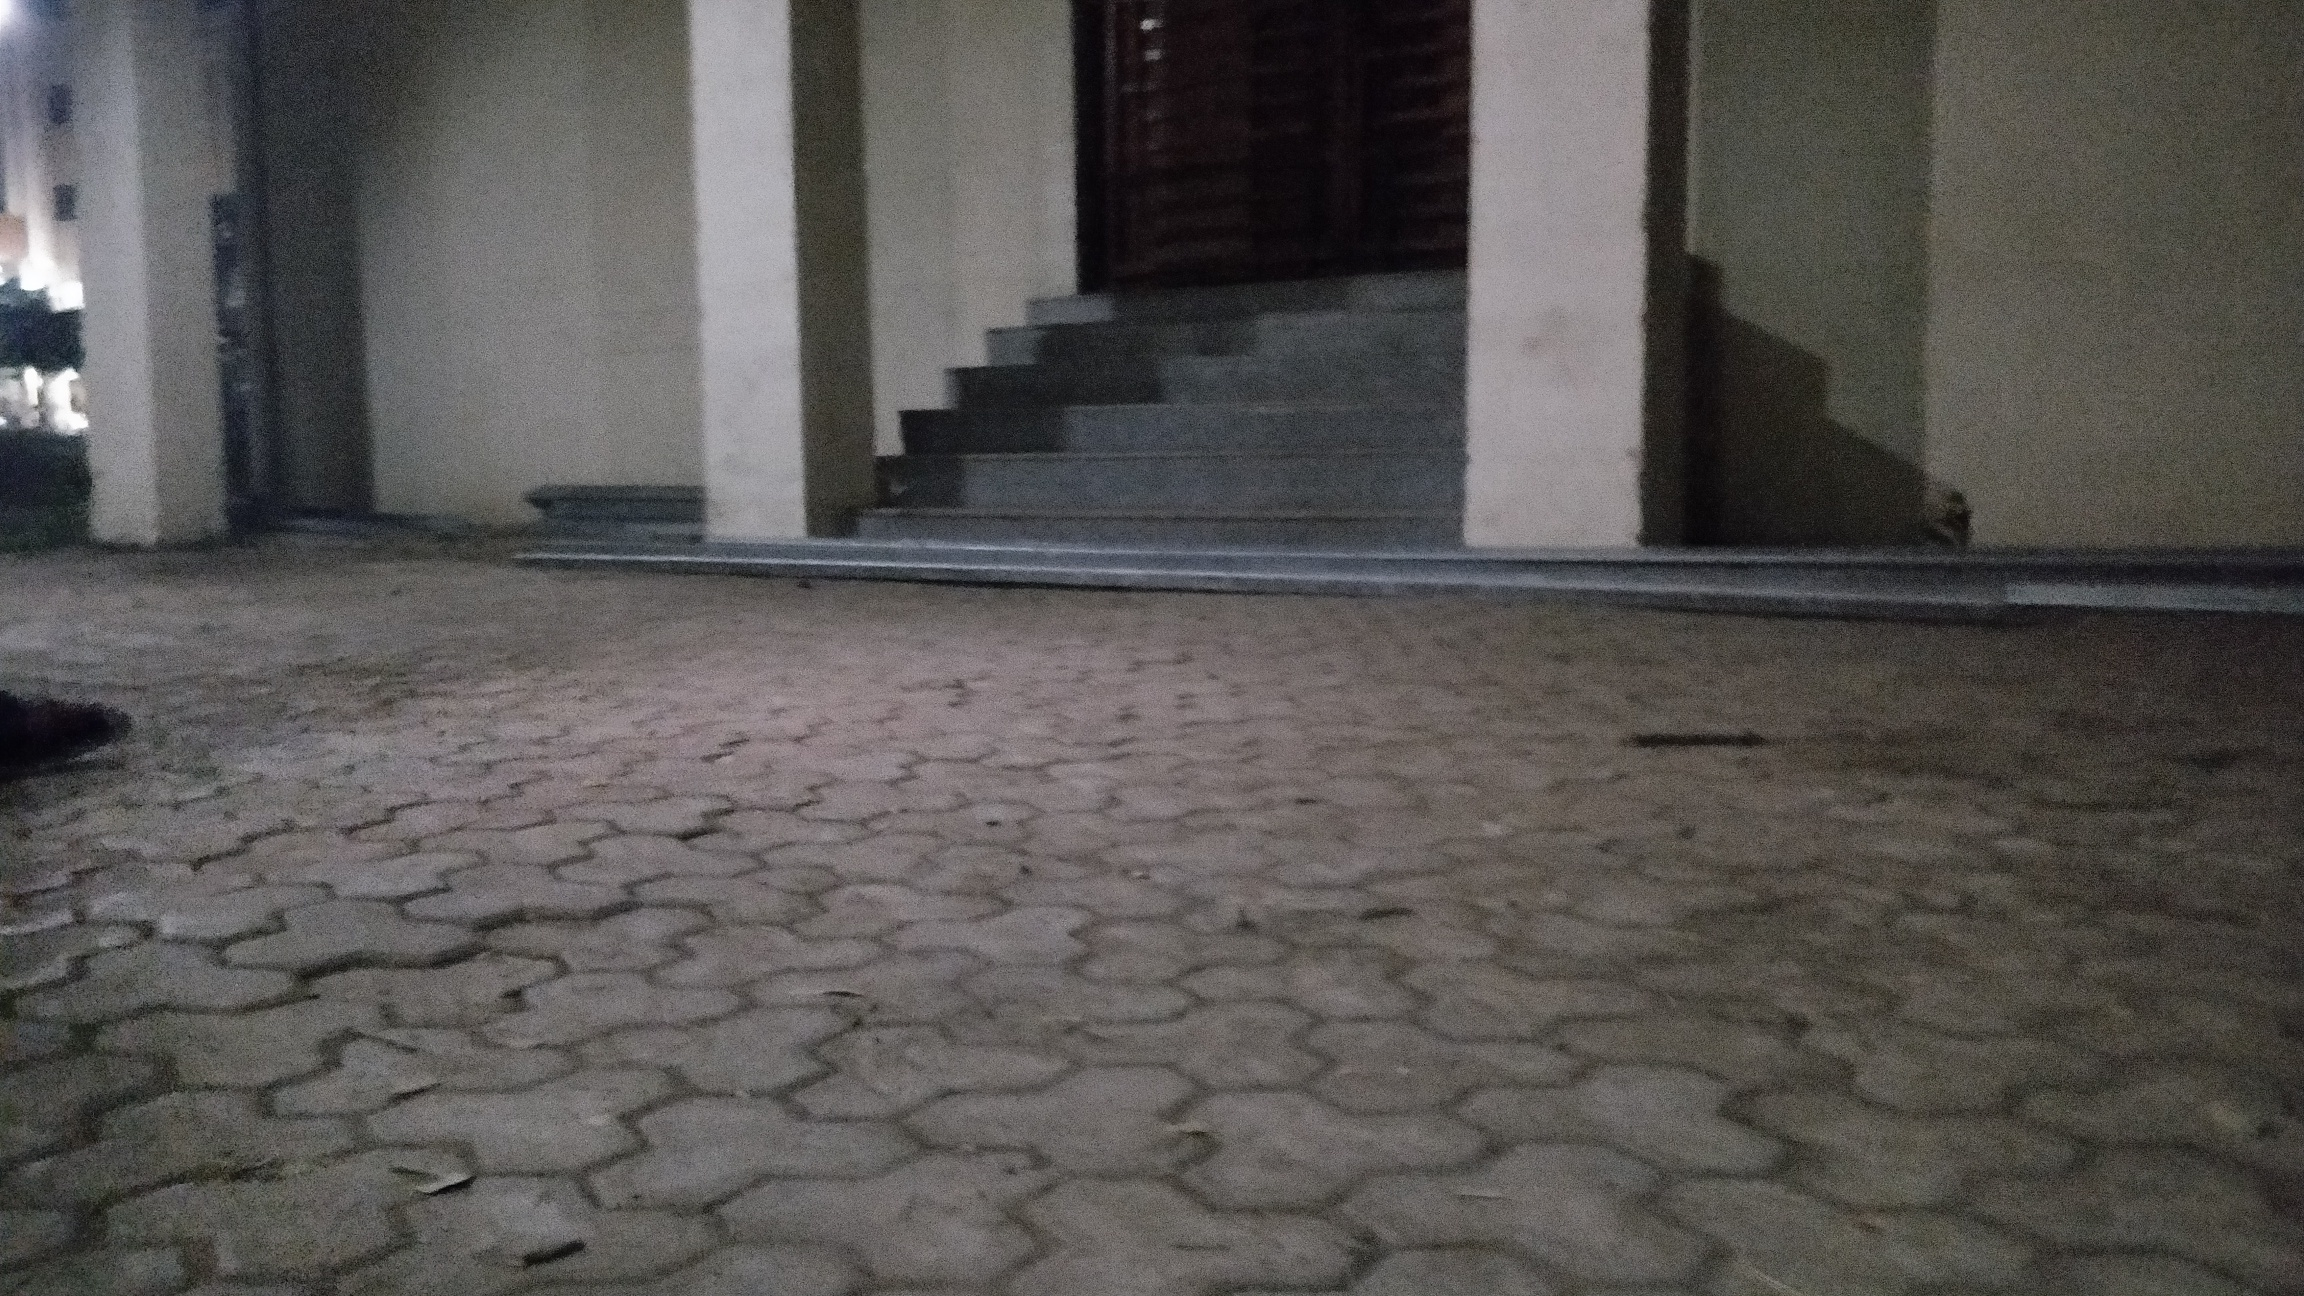stairs_up: (856, 271, 1472, 529)
